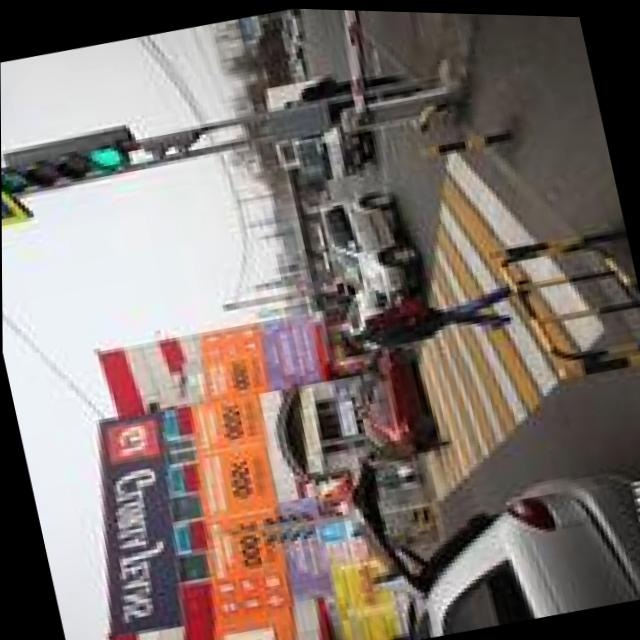green_light: (82, 120, 128, 181)
